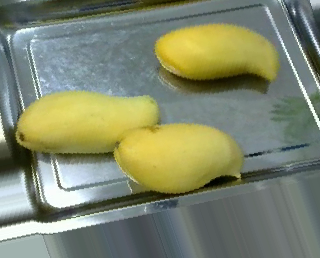Mango: (14, 87, 161, 157), (150, 15, 281, 90), (114, 121, 250, 193)
